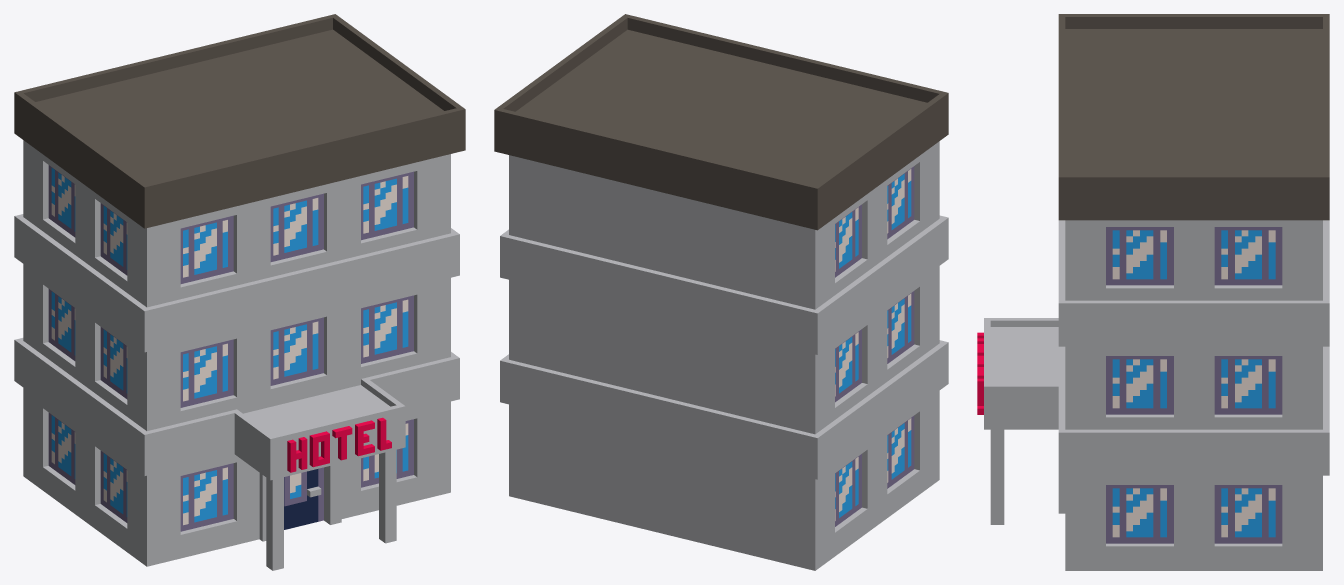
File: hotel_a.obj
3 renders of one model, left to right at view 1: azimuth 30°, elevation 25°; view 2: azimuth 150°, elevation 25°; view 3: azimuth 270°, elevation 25°, orthographic. The views are drawn at different scales.
Size of the model in its own units: 5.7 by 6.5 by 5.2.
1 material, 1 textured.
